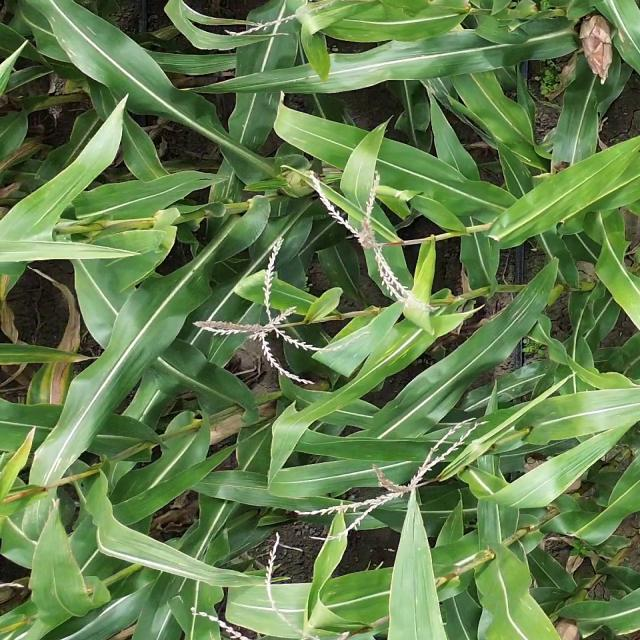gray-leaf-spot: (322, 322, 442, 391), (215, 459, 336, 519), (151, 51, 286, 100), (45, 5, 124, 86), (31, 458, 88, 542)
northern-leaf-blight: (28, 273, 82, 438)
